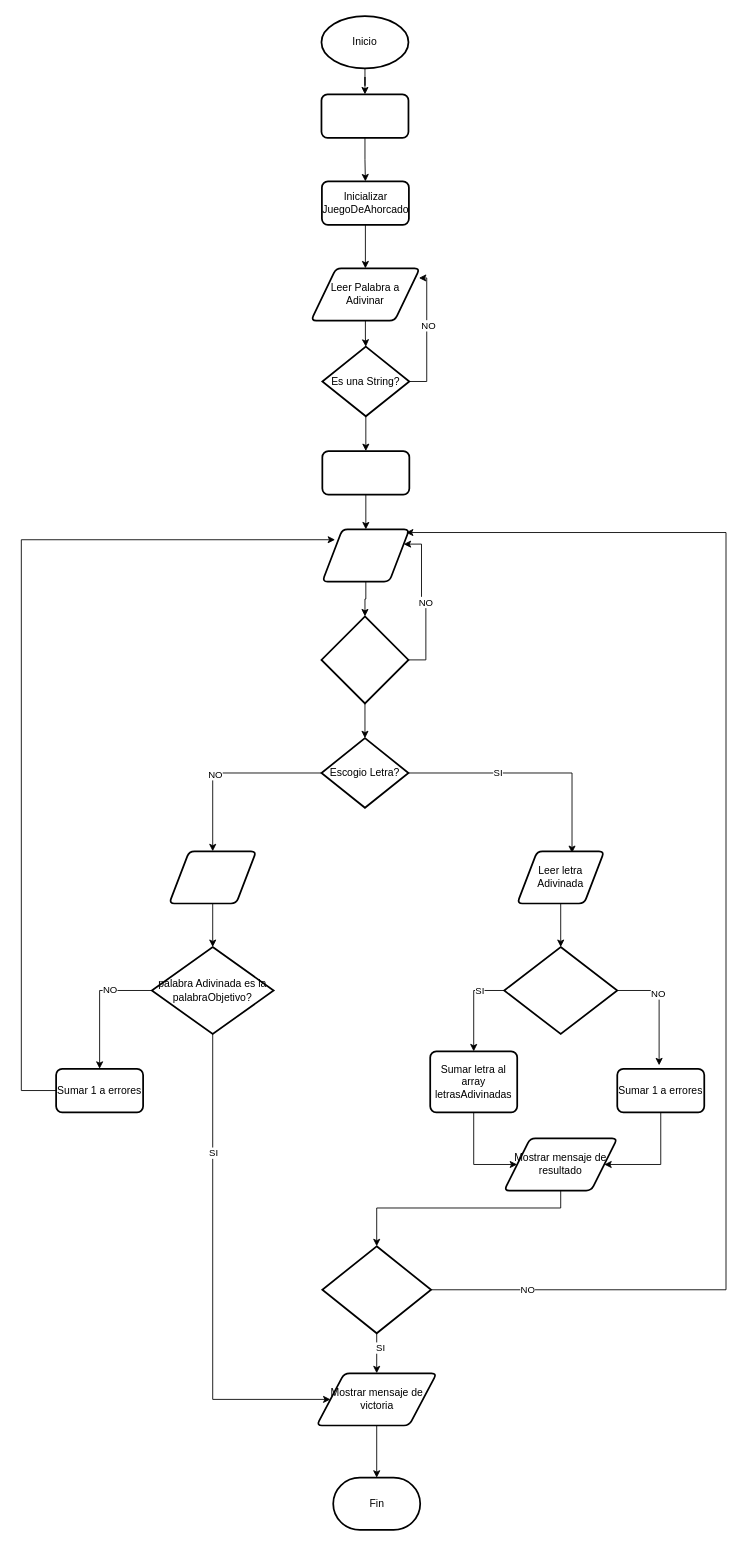
Image size: 748x1545. Some labels were removed from this diagram. Here are the shapes that lost their labels. From the top down, the centre of each, then its label:
(364,115): Mostrar Instrucciones
(365,472): Establecer palabraObjetivc
(365,555): Leer Palabra o Letra
(364,659): Escogio Palabra o Letra?
(212,877): Leer String
(560,990): letra Adivinada esta en la palabra?
(376,1289): Se han adivinado todas las letras?
